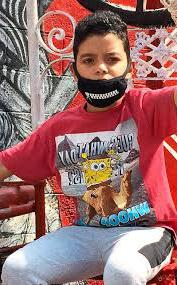mask_weared_incorrect: (75, 47, 131, 98)
